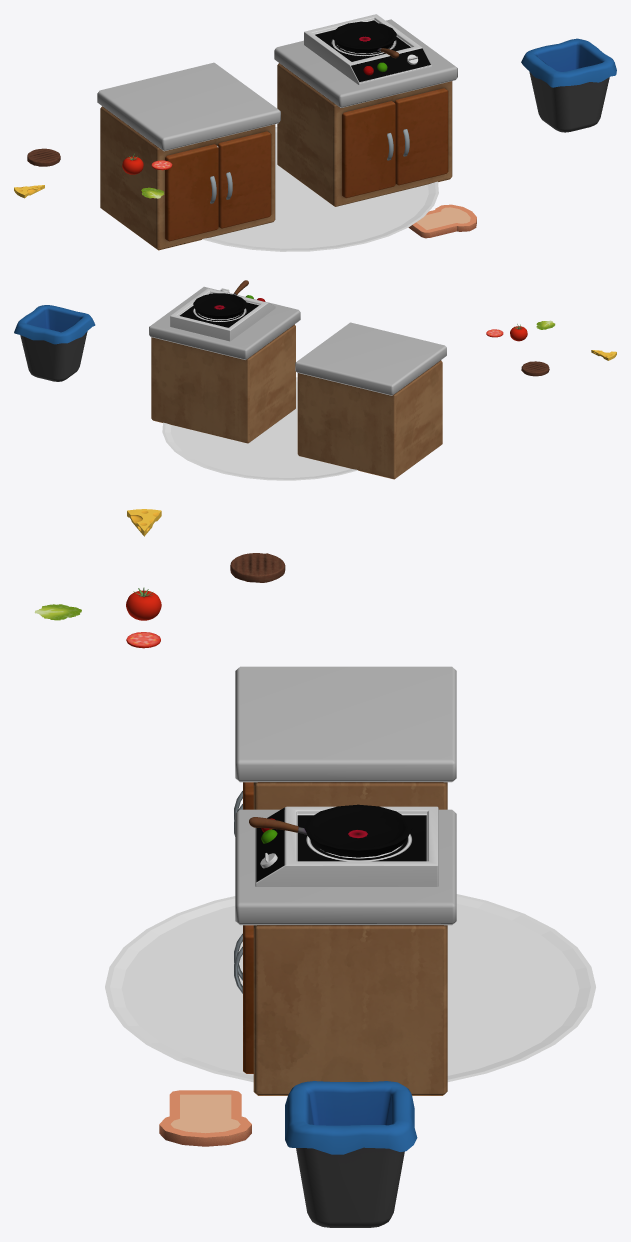
File: models.glb
The picture shows the model from 3 angles, top to bottom: view 1: azimuth 30°, elevation 25°; view 2: azimuth 150°, elevation 25°; view 3: azimuth 270°, elevation 25°; orthographic projection. The views are drawn at different scales.
Parts seen in each view (by area): view 1: fryingCounter, counter, plate, trashBin, bread, burger, Tomato; view 2: fryingCounter, counter, plate, trashBin, burger; view 3: fryingCounter, plate, counter, trashBin, bread, burger.
Part boxes in pixels (x1=…): fryingCounter: x1=274, y1=14, x2=457, y2=206; counter: x1=97, y1=62, x2=280, y2=250; plate: x1=202, y1=127, x2=438, y2=251; trashBin: x1=521, y1=38, x2=616, y2=132; bread: x1=408, y1=204, x2=476, y2=238; burger: x1=27, y1=148, x2=60, y2=166; Tomato: x1=122, y1=153, x2=143, y2=174; fryingCounter: x1=149, y1=280, x2=300, y2=443; counter: x1=295, y1=322, x2=446, y2=479; plate: x1=162, y1=377, x2=358, y2=480; trashBin: x1=14, y1=305, x2=95, y2=381; burger: x1=521, y1=361, x2=549, y2=376; fryingCounter: x1=234, y1=804, x2=456, y2=1095; plate: x1=105, y1=894, x2=595, y2=1082; counter: x1=234, y1=666, x2=456, y2=836; trashBin: x1=285, y1=1081, x2=417, y2=1227; bread: x1=159, y1=1090, x2=251, y2=1146; burger: x1=230, y1=553, x2=285, y2=582.
Size of the model in its own units: 4.9 by 1.22 by 2.21.
Materials: 11 (9 with a texture image).
